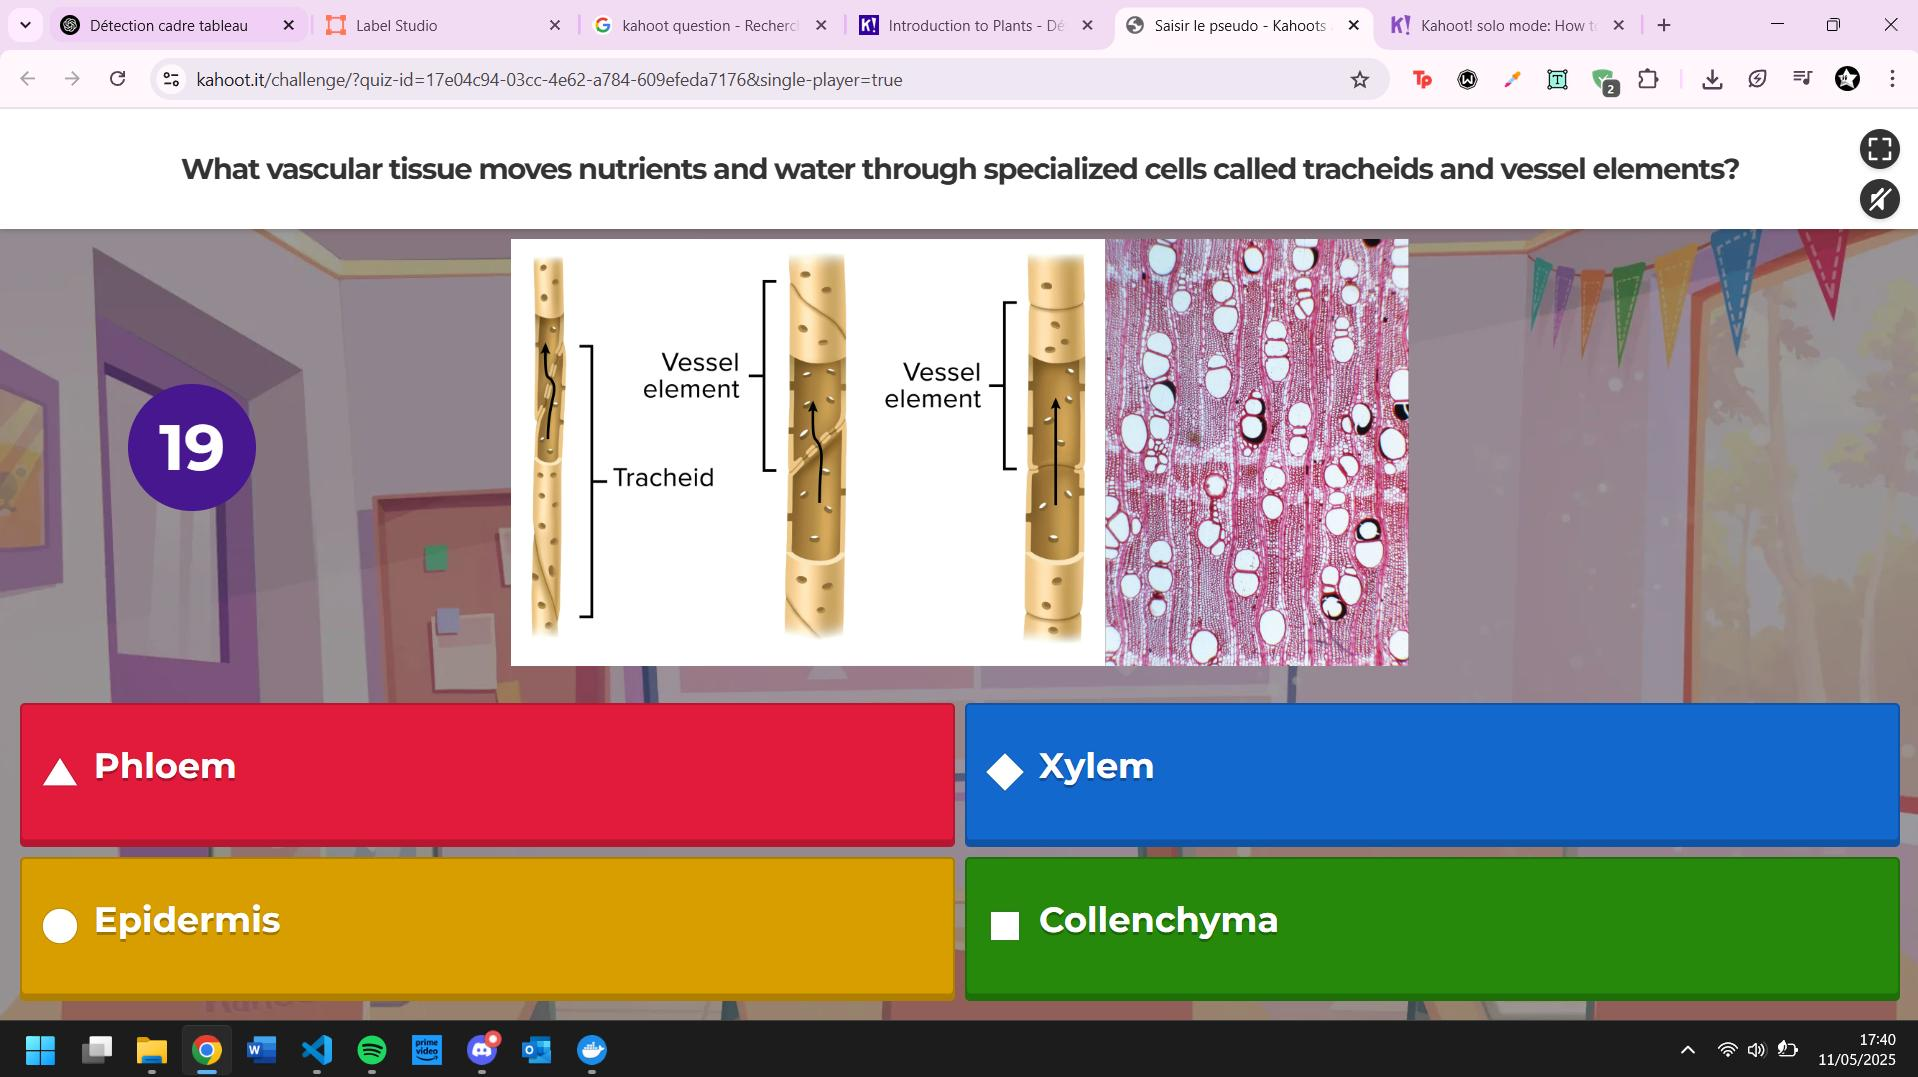answer_blue: (968, 707, 1897, 839)
answer_green: (968, 860, 1894, 994)
answer_red: (24, 707, 951, 836)
answer_yellow: (24, 860, 954, 991)
question_box: (3, 111, 1846, 230)
